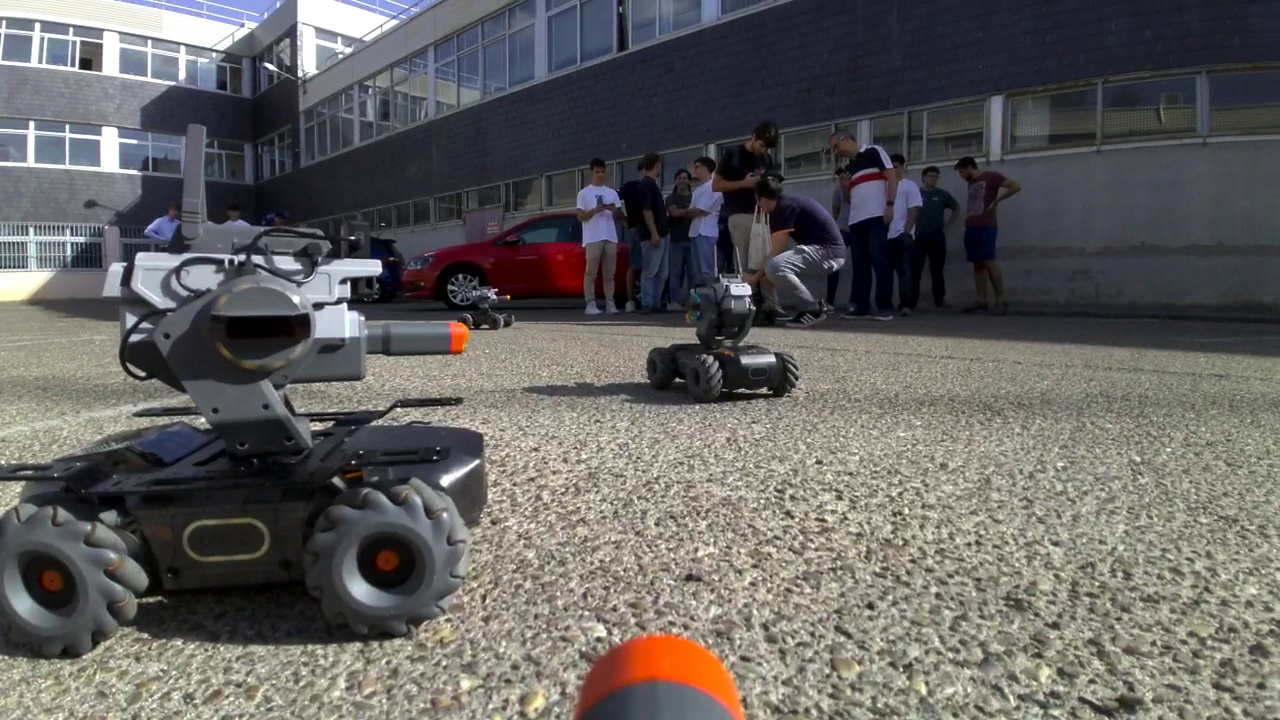robot: (1, 123, 489, 661), (646, 243, 800, 403), (456, 283, 517, 335)
